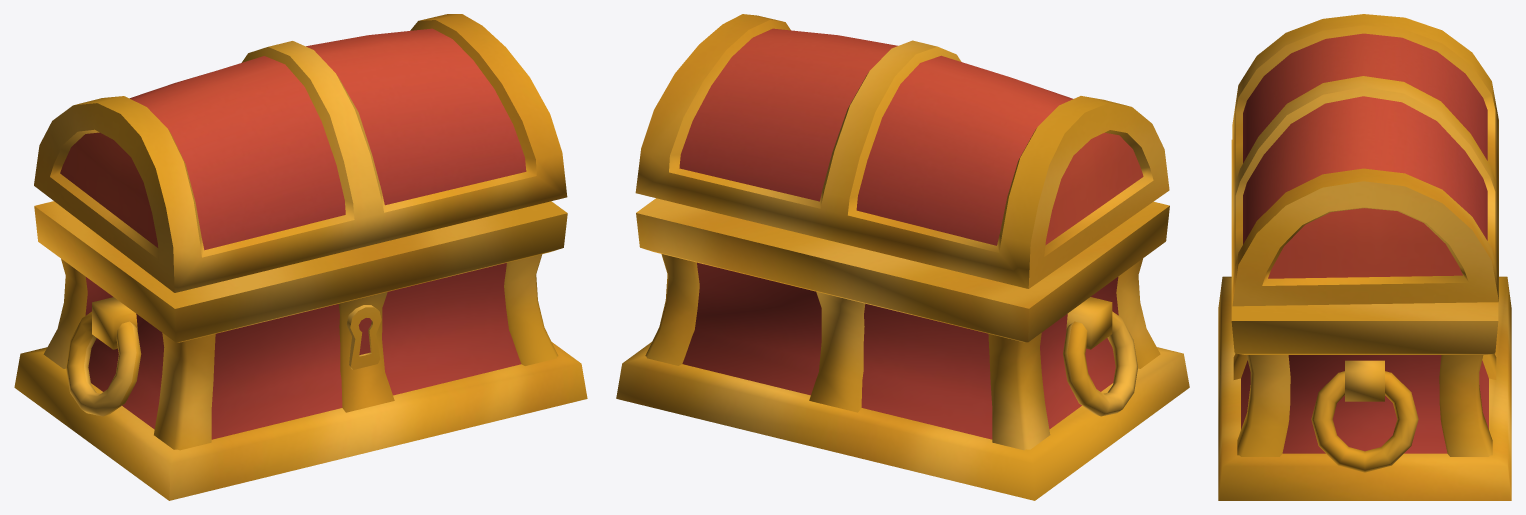
The model's file is Treasure_Model.FBX.
3 renders of one model, left to right at view 1: azimuth 30°, elevation 25°; view 2: azimuth 150°, elevation 25°; view 3: azimuth 270°, elevation 25°, orthographic. The views are drawn at different scales.
Visible parts, largest first — view 1: treasure; view 2: treasure; view 3: treasure.
Boxes of the visible parts, left/top/right/bottom form: treasure: left=14, top=14, right=587, bottom=500; treasure: left=616, top=14, right=1189, bottom=500; treasure: left=1218, top=14, right=1511, bottom=500.
Size of the model in its own units: 183 by 136 by 112.
Materials: 1 (1 with a texture image).
